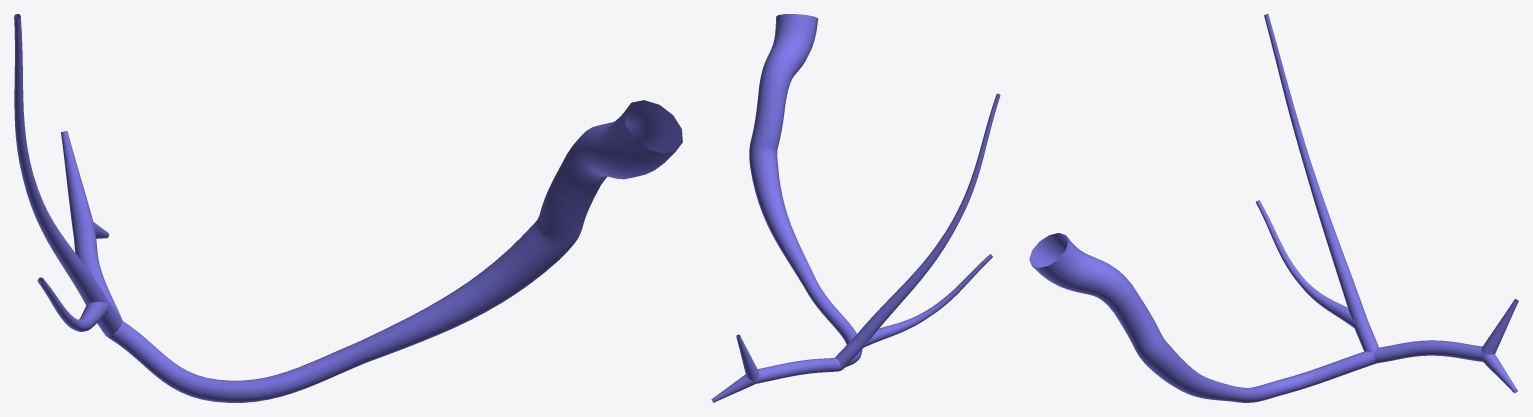
Rendered from Superior_gluteal_vein.r_BezierCurve.207.glb.
The picture shows the model from 3 angles, left to right: view 1: azimuth 30°, elevation 25°; view 2: azimuth 150°, elevation 25°; view 3: azimuth 270°, elevation 25°; orthographic projection. The views are drawn at different scales.
Parts seen in each view (by area): view 1: Superior_gluteal_vein.r_BezierCurve.207; view 2: Superior_gluteal_vein.r_BezierCurve.207; view 3: Superior_gluteal_vein.r_BezierCurve.207.
Boxes of the visible parts, x1=… form: Superior_gluteal_vein.r_BezierCurve.207: x1=14, y1=14, x2=682, y2=402; Superior_gluteal_vein.r_BezierCurve.207: x1=711, y1=14, x2=1000, y2=402; Superior_gluteal_vein.r_BezierCurve.207: x1=1029, y1=14, x2=1518, y2=402.
Bounding box in the file's own units: 0.0523 × 0.0441 × 0.0637.
